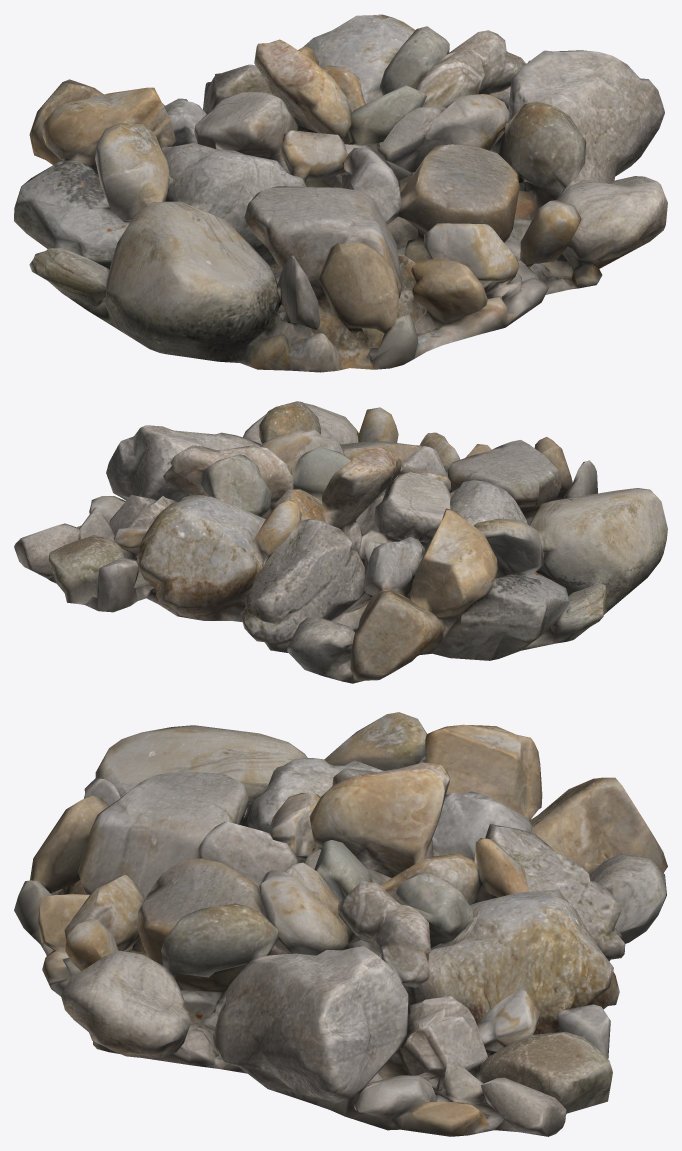
File: SM_xk5mbhe_tier_2.gltf
3 views of the same model, one above another, from view 1: azimuth 30°, elevation 25°; view 2: azimuth 150°, elevation 25°; view 3: azimuth 270°, elevation 25° (orthographic). The views are drawn at different scales.
Visible parts, largest first — view 1: SM_xk5mbhe_0; view 2: SM_xk5mbhe_0; view 3: SM_xk5mbhe_0.
Boxes of the visible parts, x1,y1,x2,y2 form: SM_xk5mbhe_0: (14, 14, 667, 372); SM_xk5mbhe_0: (14, 401, 667, 683); SM_xk5mbhe_0: (14, 712, 667, 1136).
Bounding box in the file's own units: 1.08 × 0.2857 × 0.884.
Materials: 1 (1 with a texture image).
